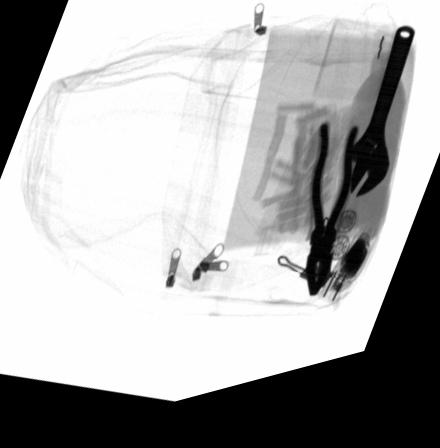Pliers: (304, 139, 360, 313)
Wrench: (344, 48, 415, 219)
